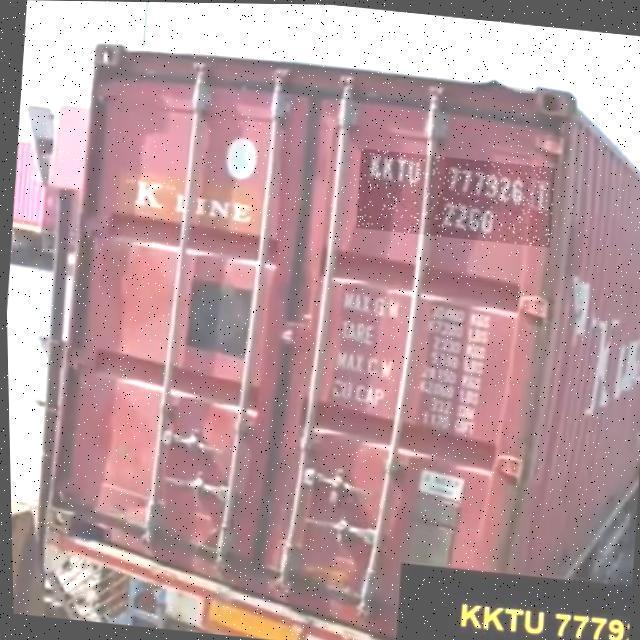container_number_h: (353, 147, 555, 246)
